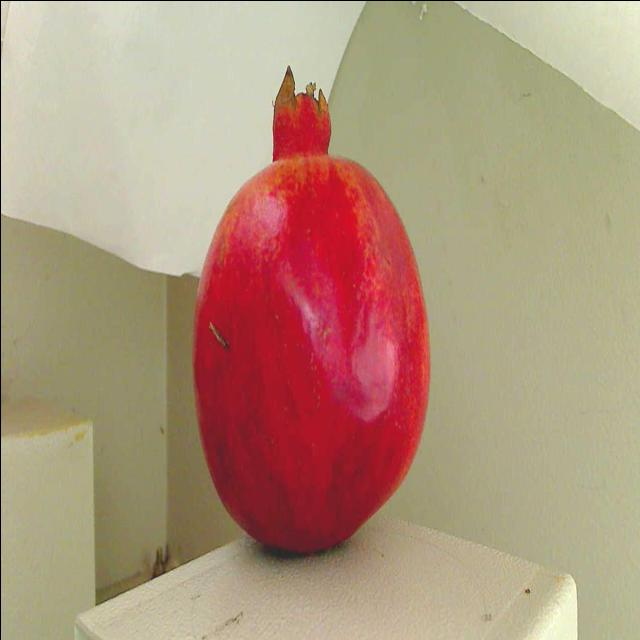pomegranate: (174, 62, 436, 590)
